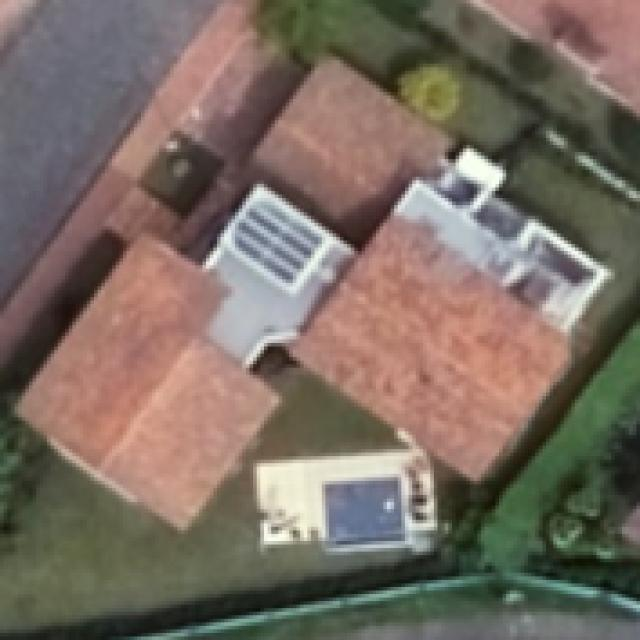Batiment: (18, 235, 279, 528), (291, 218, 570, 482), (423, 0, 638, 179), (253, 59, 449, 244), (256, 448, 437, 553)
